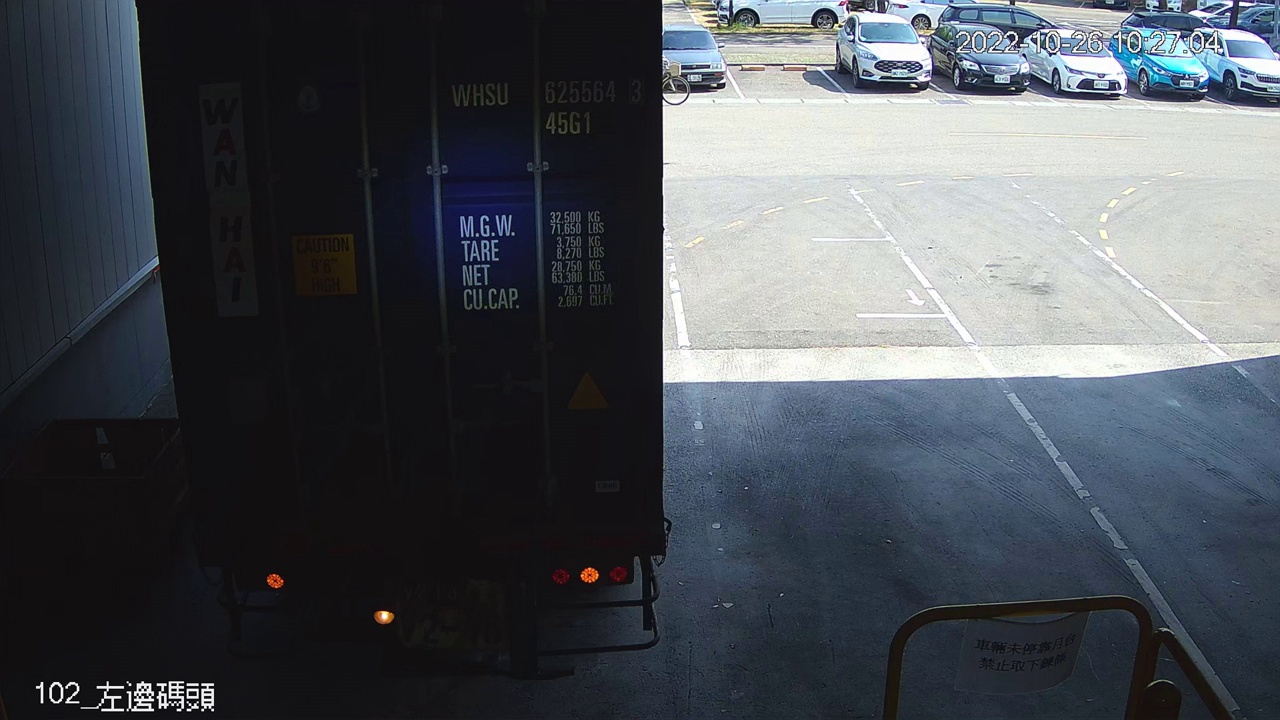container: (445, 71, 647, 142)
